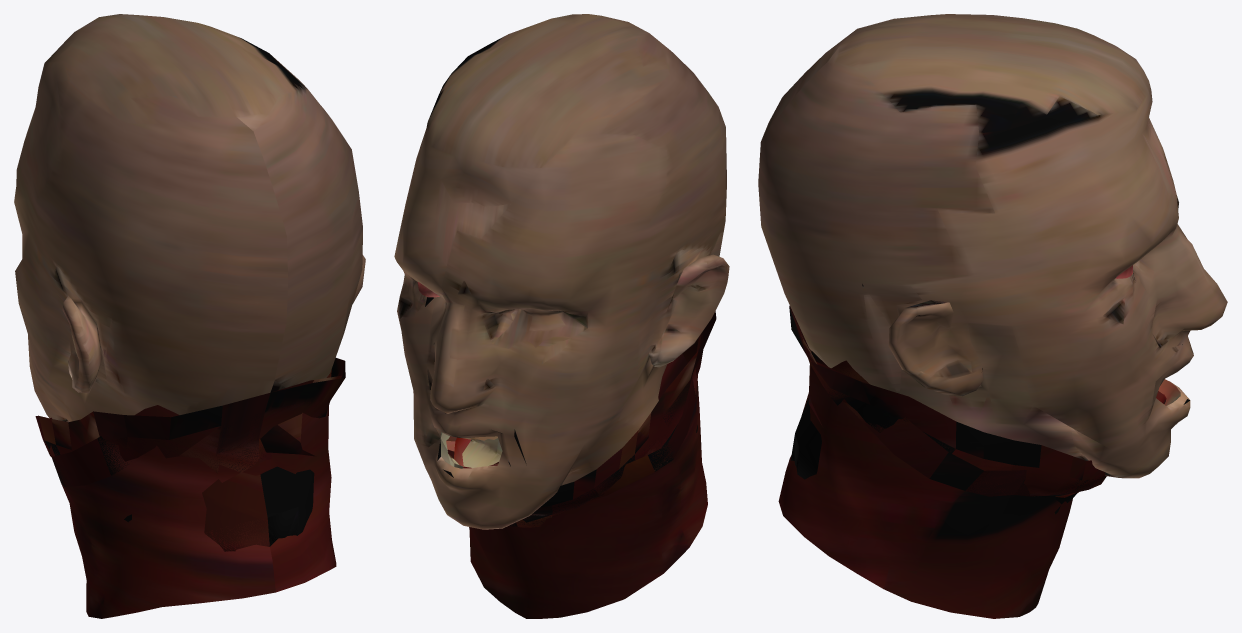
3 views of the same model, side by side, from view 1: azimuth 30°, elevation 25°; view 2: azimuth 150°, elevation 25°; view 3: azimuth 270°, elevation 25° (orthographic). The views are drawn at different scales.
Visible parts, largest first — view 1: mesh_0; view 2: mesh_0; view 3: mesh_0.
Part boxes in pixels (left/top/right/bottom): mesh_0: left=14, top=14, right=365, bottom=618; mesh_0: left=394, top=14, right=729, bottom=618; mesh_0: left=758, top=14, right=1227, bottom=618.
Size of the model in its own units: 7.07 by 13.25 by 9.88.
1 material, 1 textured.
